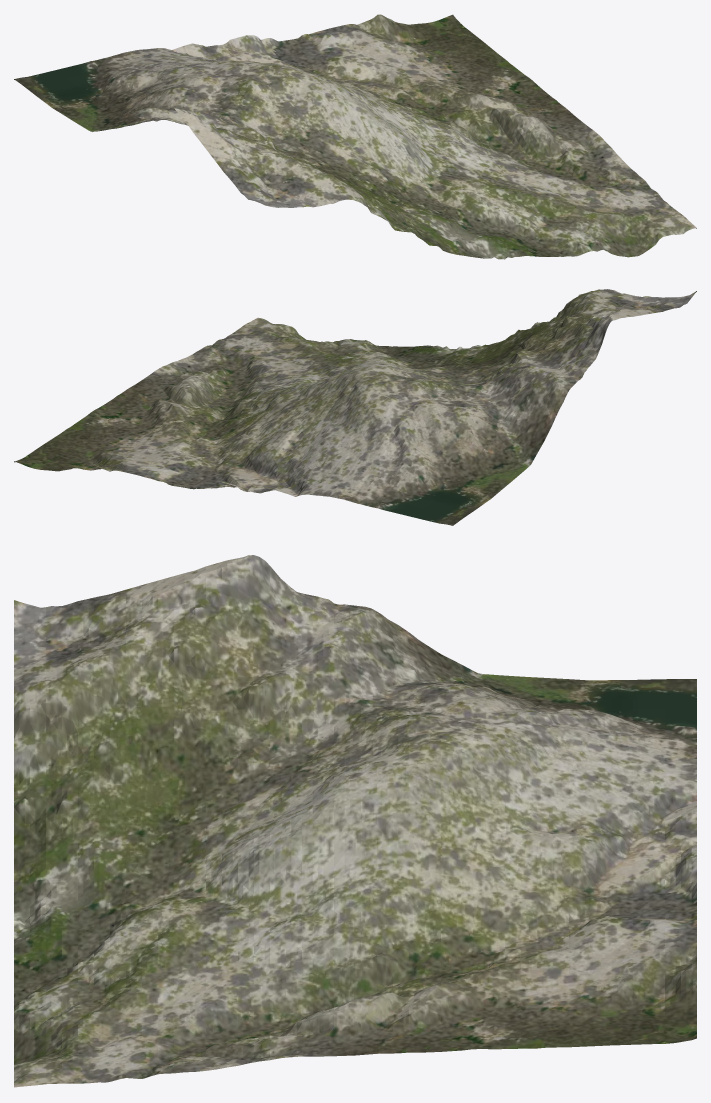
3 views of the same model, one above another, from view 1: azimuth 30°, elevation 25°; view 2: azimuth 150°, elevation 25°; view 3: azimuth 270°, elevation 25° (orthographic). The views are drawn at different scales.
Bounding box in the file's own units: 500 × 197 × 481.
Materials: 1 (1 with a texture image).
